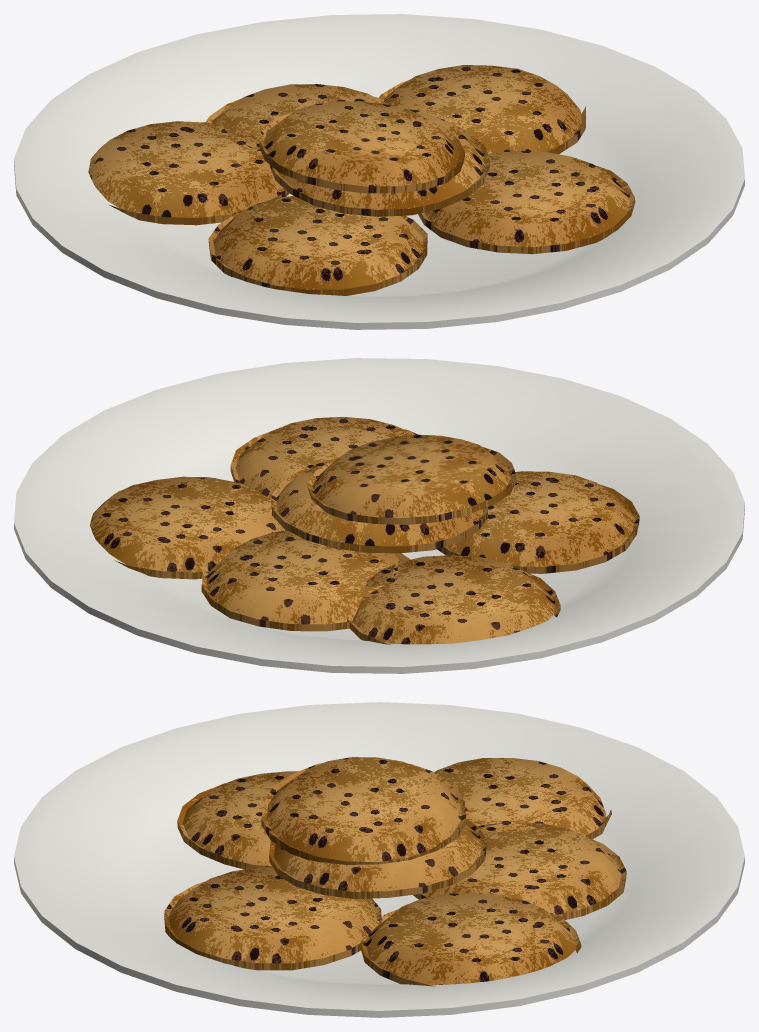
The model's file is bakery_cookies_on_plate.glb.
3 views of the same model, one above another, from view 1: azimuth 30°, elevation 25°; view 2: azimuth 150°, elevation 25°; view 3: azimuth 270°, elevation 25° (orthographic).
Parts seen in each view (by area): view 1: bakery_cookies_on_plate; view 2: bakery_cookies_on_plate; view 3: bakery_cookies_on_plate.
Boxes of the visible parts, bbox=[...] form: bakery_cookies_on_plate: bbox=[14, 14, 744, 329]; bakery_cookies_on_plate: bbox=[14, 358, 744, 673]; bakery_cookies_on_plate: bbox=[14, 702, 744, 1017].
Size of the model in its own units: 0.24 by 0.0388 by 0.24.
Materials: 2 (1 with a texture image).
